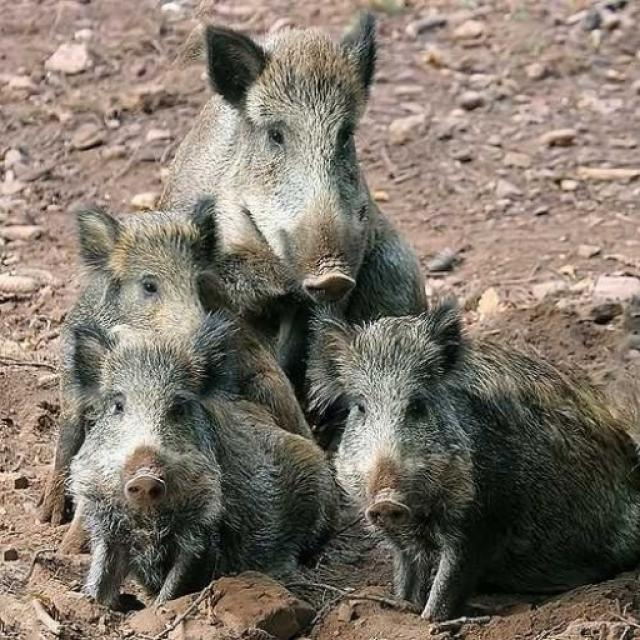pig: (313, 292, 640, 640), (34, 349, 318, 623), (176, 25, 460, 287), (55, 190, 280, 400)
